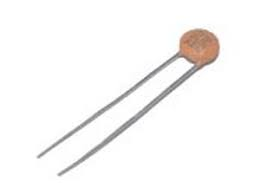ceramic capacitor: (164, 16, 225, 100)
